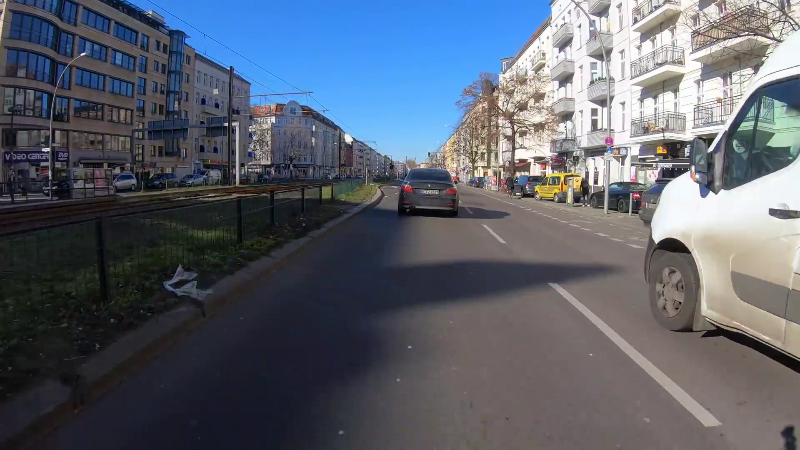Plate: (418, 188, 439, 196)
